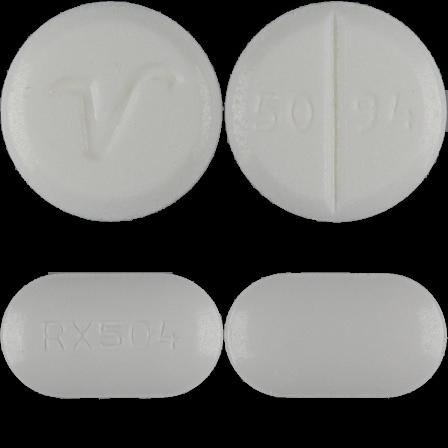16590-365: (0, 0, 224, 224)
